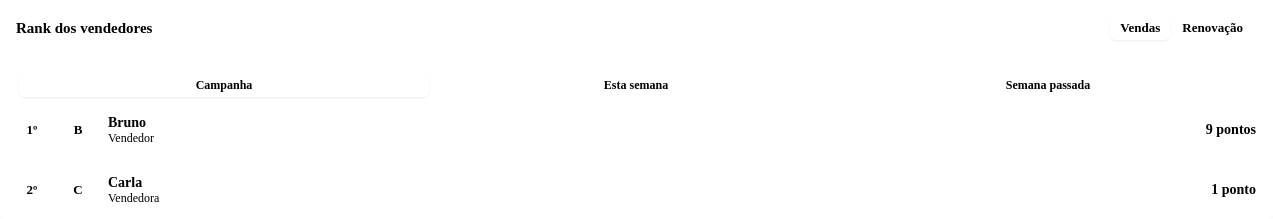
Test: RankWidget › a aba Renovação mostra o ranking de farm
Check: the text "Bruno" is shown, box [108, 114, 146, 130]
Click the tab "Renovação". click: (1213, 28)
box: [1172, 16, 1253, 40]
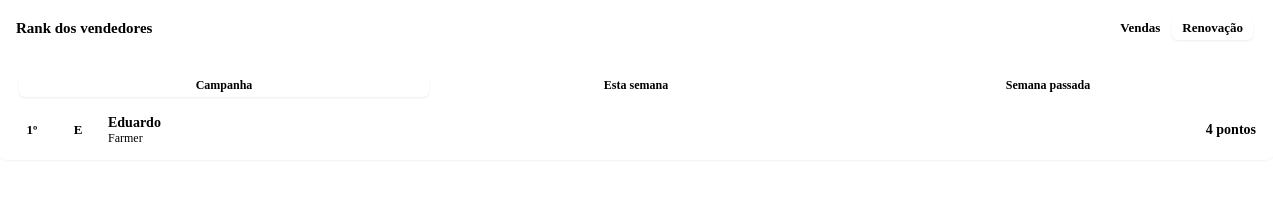
Check: the text "Eduardo" is shown, box [108, 114, 161, 130]
Check: the text "Bruno" is gone
